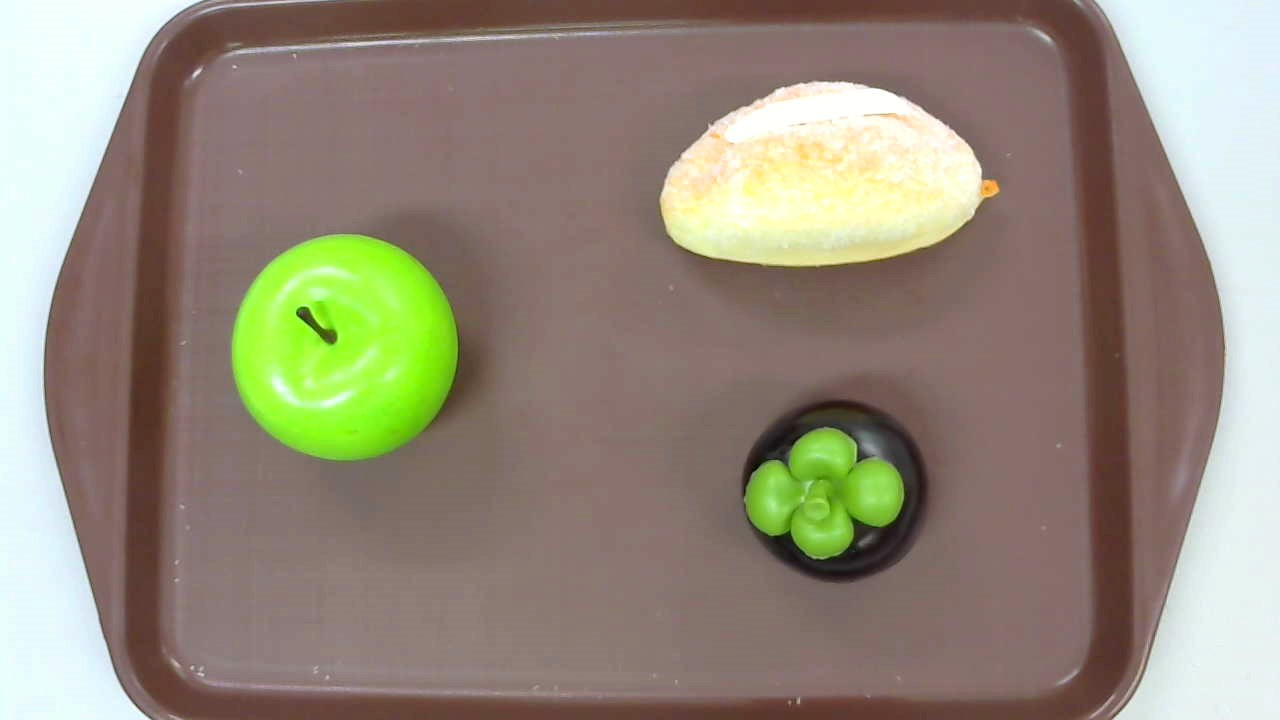coconut: (659, 80, 999, 271)
green apple: (229, 234, 458, 462)
mangosteen: (740, 399, 928, 584)
